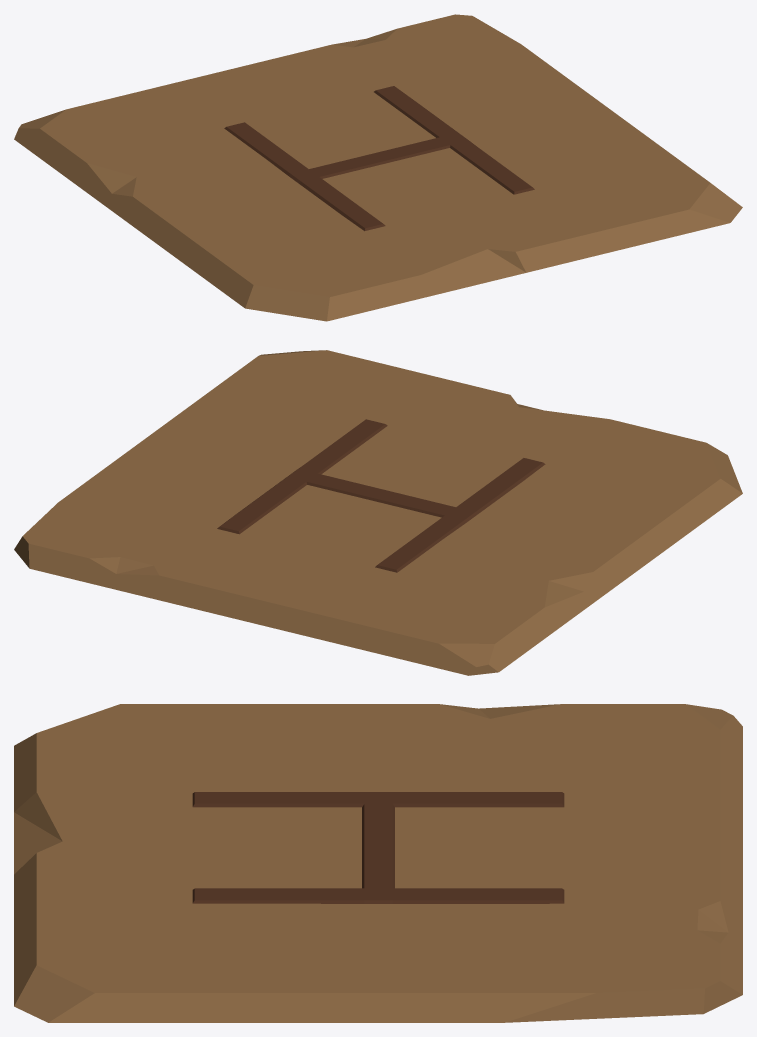
File: LPWarPack_HelicopterLandingPad.fbx
3 renders of one model, top to bottom at view 1: azimuth 30°, elevation 25°; view 2: azimuth 150°, elevation 25°; view 3: azimuth 270°, elevation 25°, orthographic. The views are drawn at different scales.
Parts seen in each view (by area): view 1: HelicopterLandingPad; view 2: HelicopterLandingPad; view 3: HelicopterLandingPad.
Boxes of the visible parts, box(x1,y1,x2,y2) form: HelicopterLandingPad: box(14, 14, 742, 321); HelicopterLandingPad: box(14, 350, 742, 675); HelicopterLandingPad: box(14, 704, 742, 1022).
Size of the model in its own units: 426 by 14.66 by 426.
